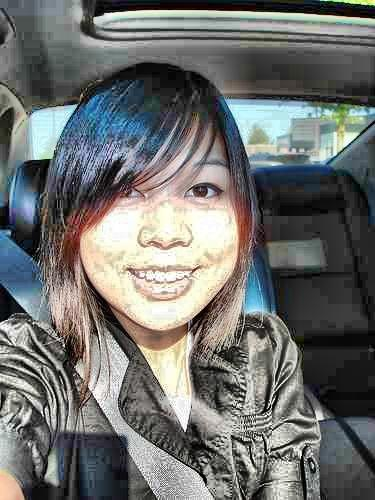seatbelt: (29, 216, 201, 491)
